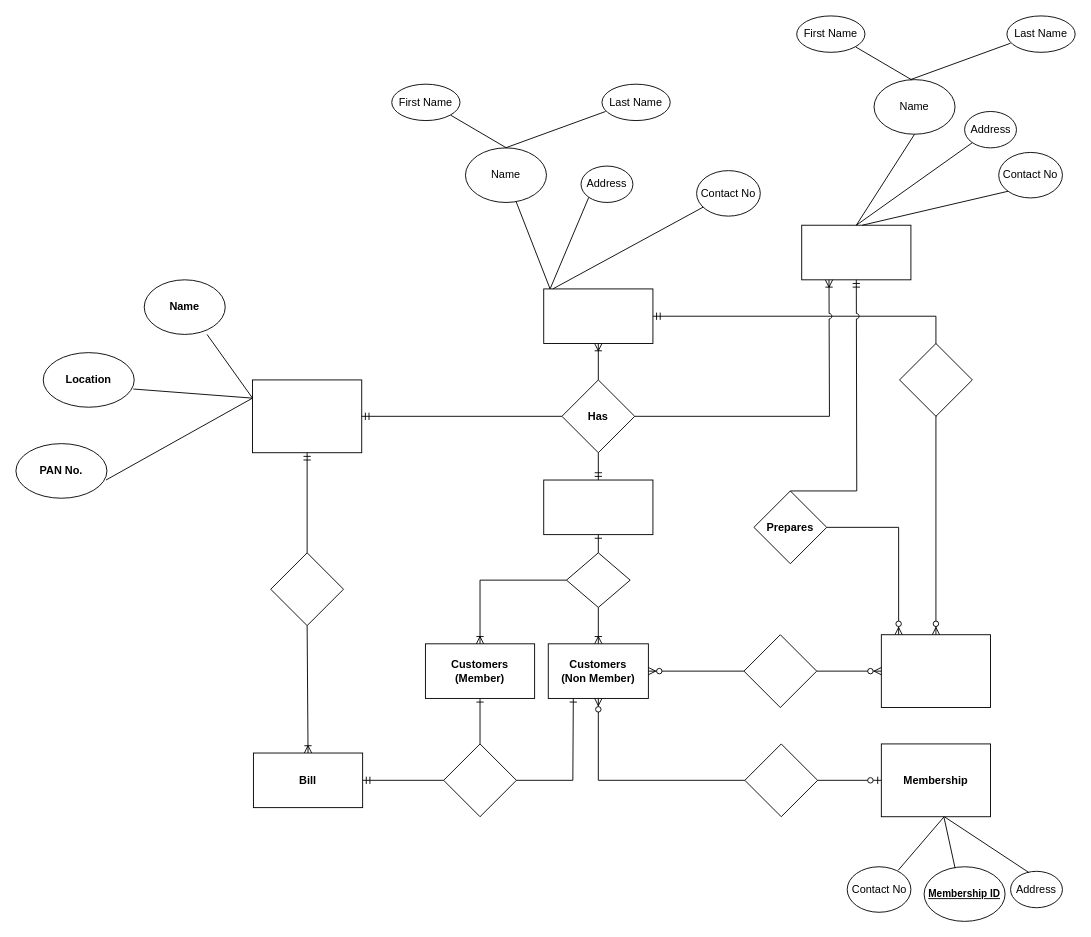
This 1091x937 diagram has some shape labels left out. Here are the shapes that lost their labels. From the top down, the box of each, then its label:
(801, 224, 911, 280): Chef
(543, 288, 653, 344): Waiter
(899, 343, 972, 416): Recives
(252, 379, 362, 453): Restaurant
(543, 479, 653, 535): Cashier
(270, 552, 344, 626): Generates
(566, 552, 630, 607): Pays
(743, 634, 817, 708): Gives
(880, 634, 991, 708): Food Orders
(443, 743, 516, 817): Given To
(744, 743, 818, 817): Requests
